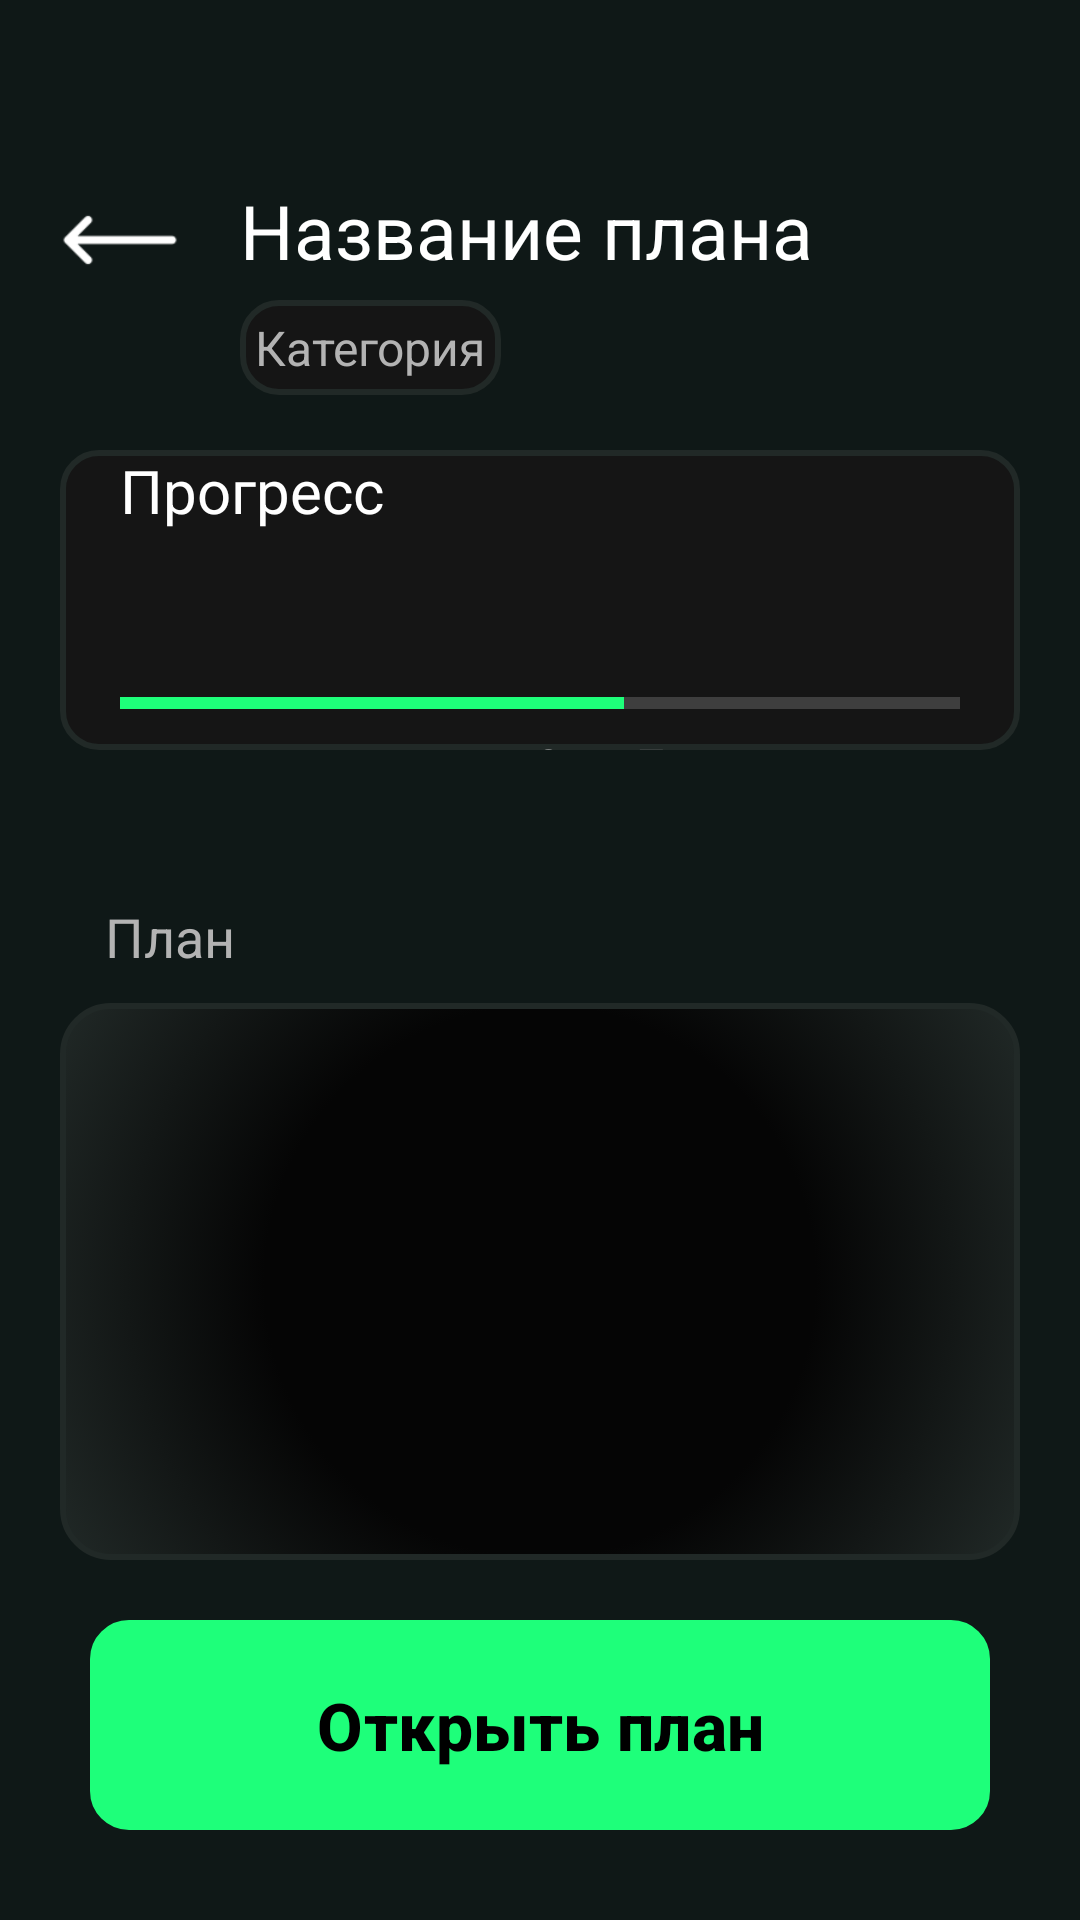

Where to tap for icons on this 1080×1920 app screen, as (x,y):
left arrow: (120,240)
